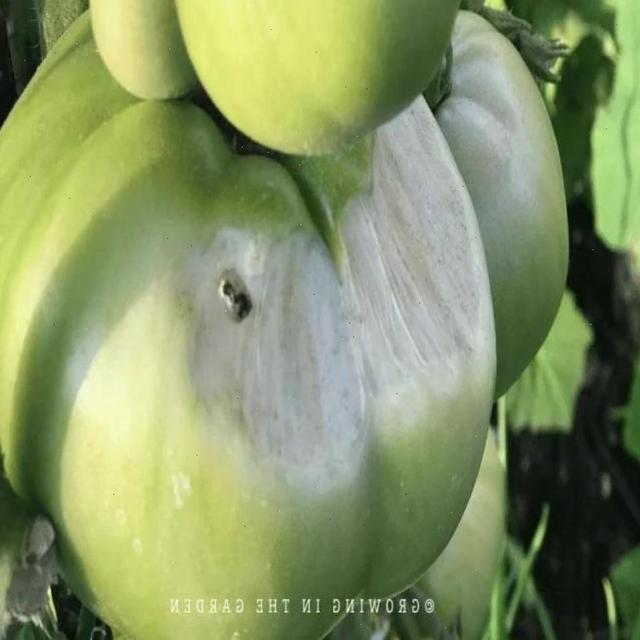Sunscald Fruit: (84, 98, 314, 280)
